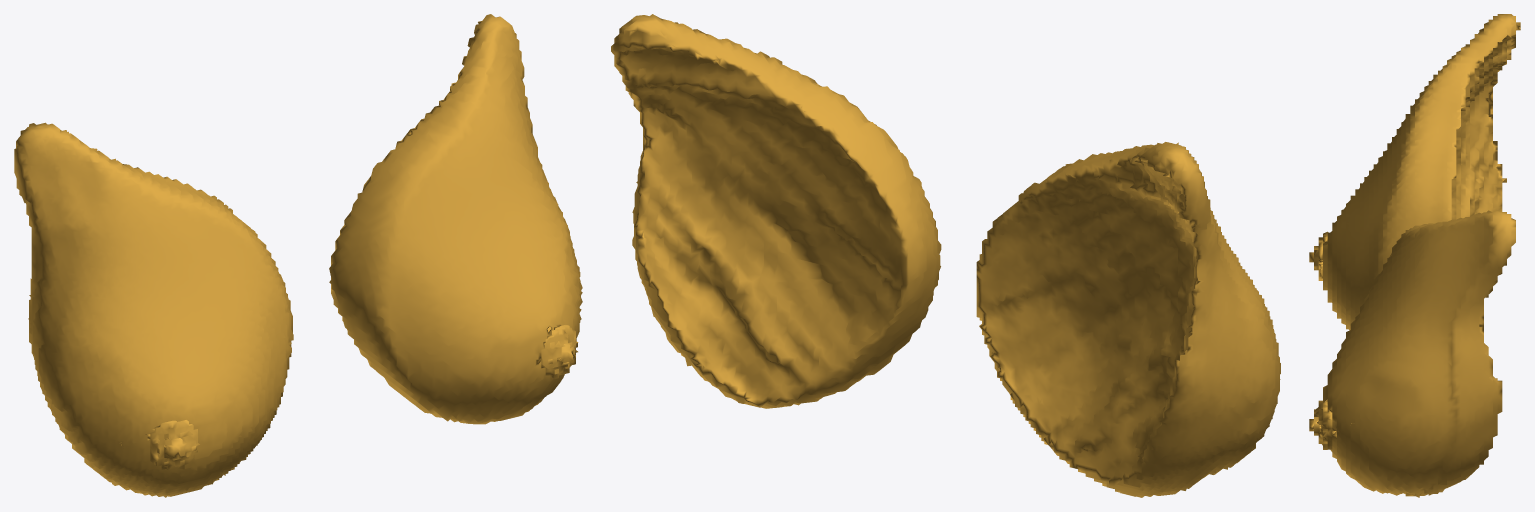
File: payudara.glb
3 views of the same model, side by side, from view 1: azimuth 30°, elevation 25°; view 2: azimuth 150°, elevation 25°; view 3: azimuth 270°, elevation 25° (orthographic). The views are drawn at different scales.
Visible parts, largest first — view 1: Right fat, Left fat, Right areola, Left areola; view 2: Left fat, Right fat; view 3: Left fat, Right fat, Left areola, Right areola.
Boxes of the visible parts, bbox=[...] form: Right fat: bbox=[14, 122, 293, 497]; Left fat: bbox=[329, 14, 582, 424]; Right areola: bbox=[150, 420, 199, 470]; Left areola: bbox=[541, 324, 577, 378]; Left fat: bbox=[611, 14, 941, 408]; Right fat: bbox=[976, 142, 1280, 497]; Left fat: bbox=[1323, 210, 1515, 497]; Right fat: bbox=[1323, 14, 1520, 330]; Left areola: bbox=[1314, 400, 1332, 449]; Right areola: bbox=[1314, 231, 1328, 280].
Bounding box in the file's own units: 2 × 1.27 × 0.8.
